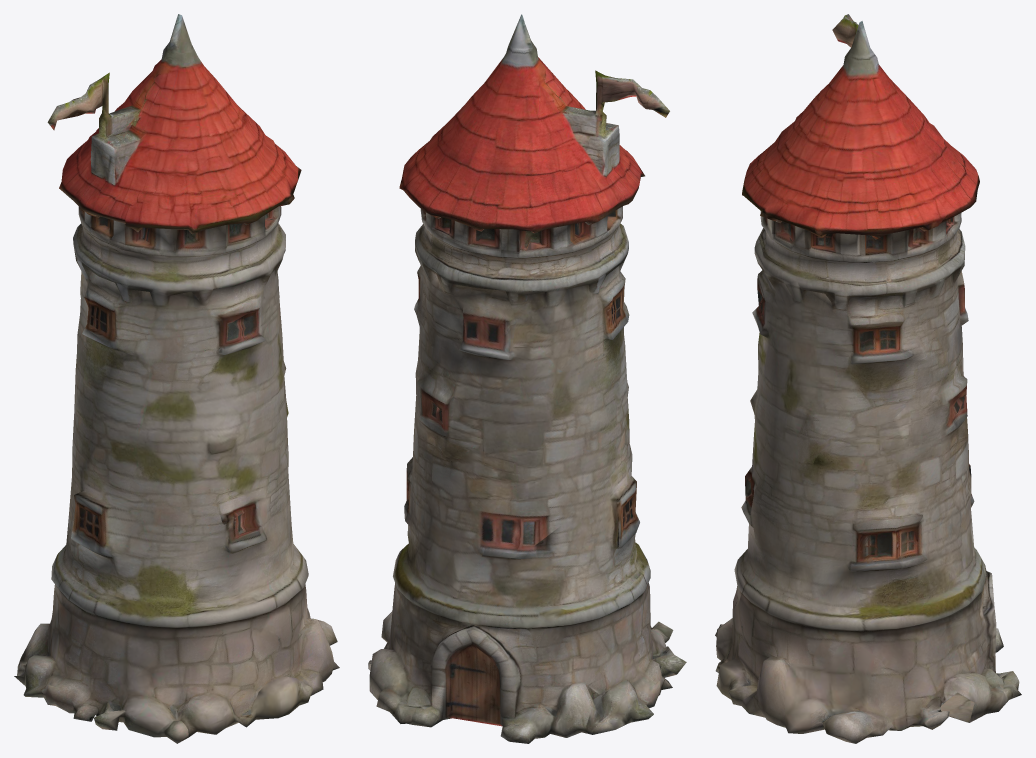
File: tower.glb
3 renders of one model, left to right at view 1: azimuth 30°, elevation 25°; view 2: azimuth 150°, elevation 25°; view 3: azimuth 270°, elevation 25°, orthographic.
Parts seen in each view (by area): view 1: tower; view 2: tower; view 3: tower.
Part boxes in pixels (<box>): tower: <box>14,14,339,743</box>; tower: <box>368,14,686,743</box>; tower: <box>715,14,1021,743</box>.
Bounding box in the file's own units: 2.2 × 4.81 × 2.04.
Materials: 1 (1 with a texture image).
